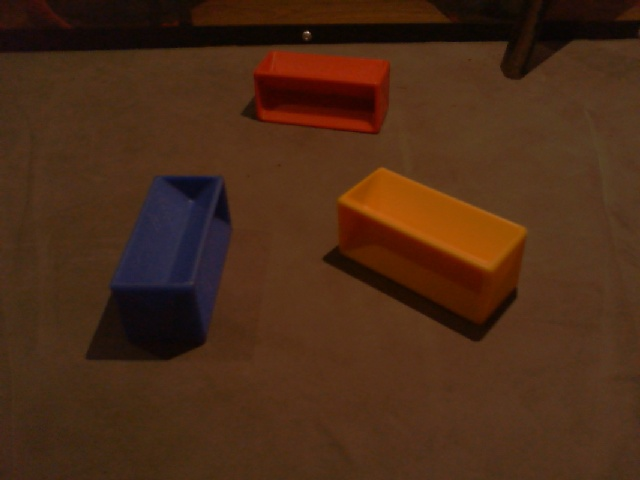BlueSample: (111, 173, 233, 347)
RedSample: (251, 51, 393, 135)
YellowSample: (335, 164, 531, 328)
